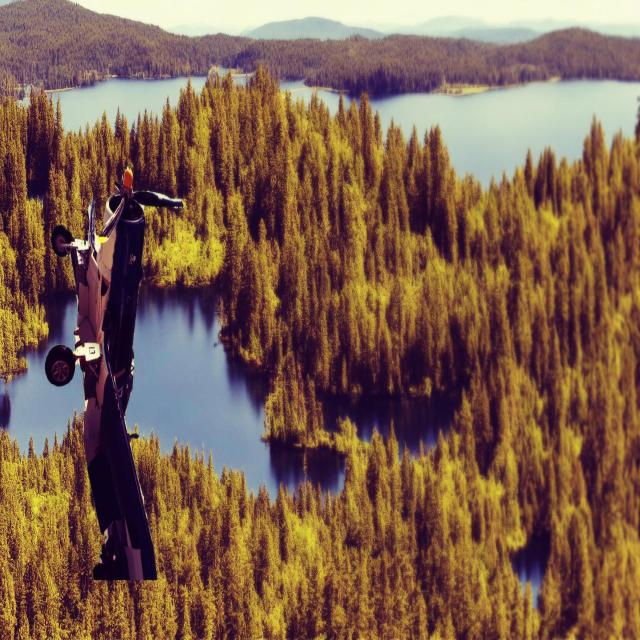airplane: (44, 166, 184, 582)
